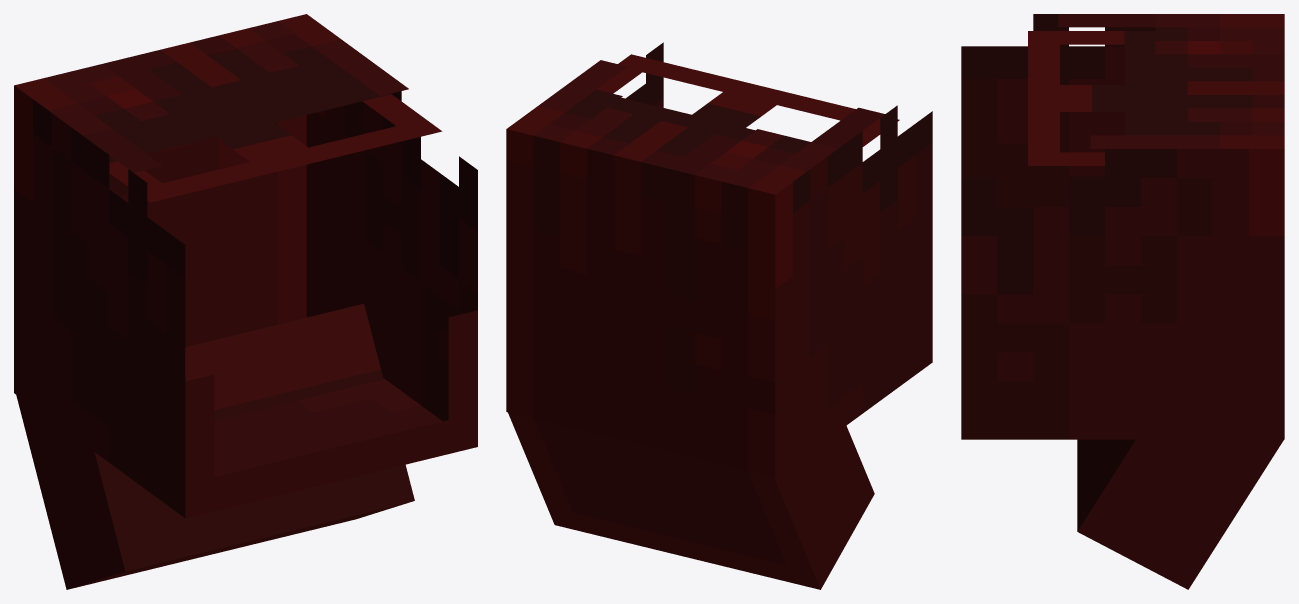
Rendered from Helmet_SpiritRobe.glb.
3 views of the same model, side by side, from view 1: azimuth 30°, elevation 25°; view 2: azimuth 150°, elevation 25°; view 3: azimuth 270°, elevation 25° (orthographic). The views are drawn at different scales.
Visible parts, largest first — view 1: Helmet_SpiritRobe.001; view 2: Helmet_SpiritRobe.001; view 3: Helmet_SpiritRobe.001.
Boxes of the visible parts, x1,y1,x2,y2 form: Helmet_SpiritRobe.001: (14,14,477,589); Helmet_SpiritRobe.001: (506,42,932,589); Helmet_SpiritRobe.001: (961,14,1284,589).
Bounding box in the file's own units: 62.19 × 94.98 × 62.98.
Materials: 1 (1 with a texture image).
